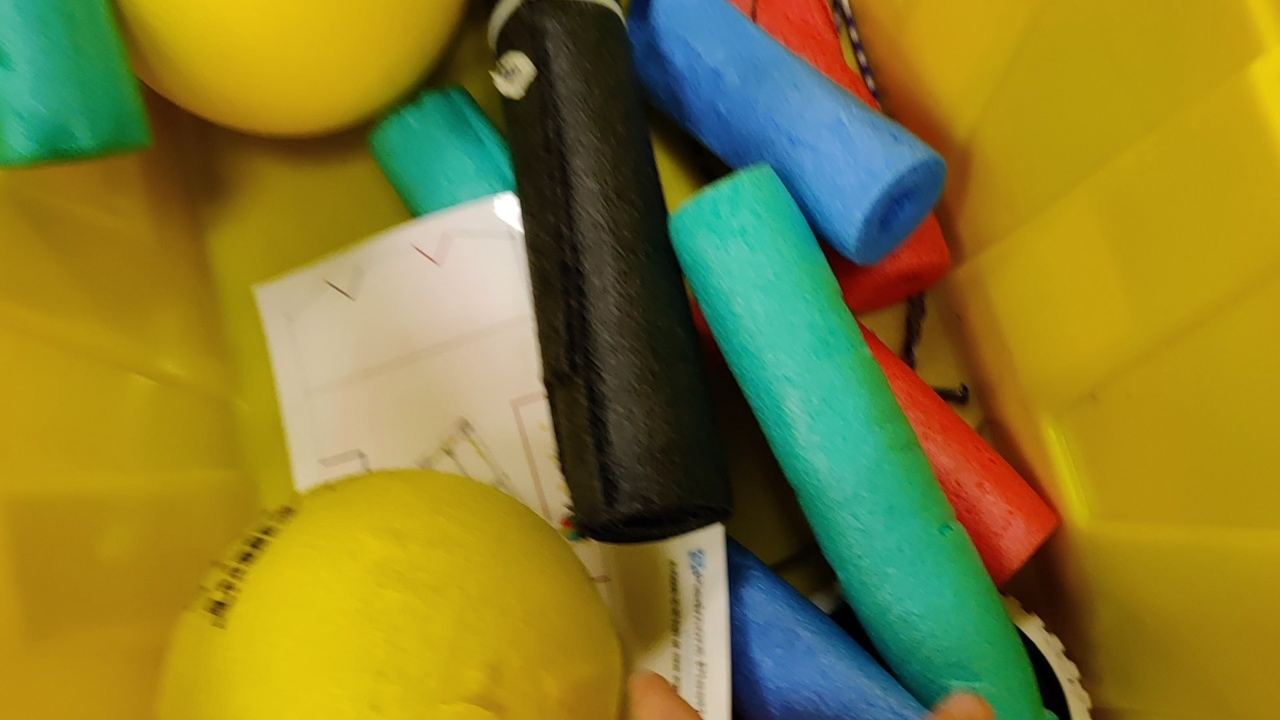Ball: (157, 468, 630, 720)
